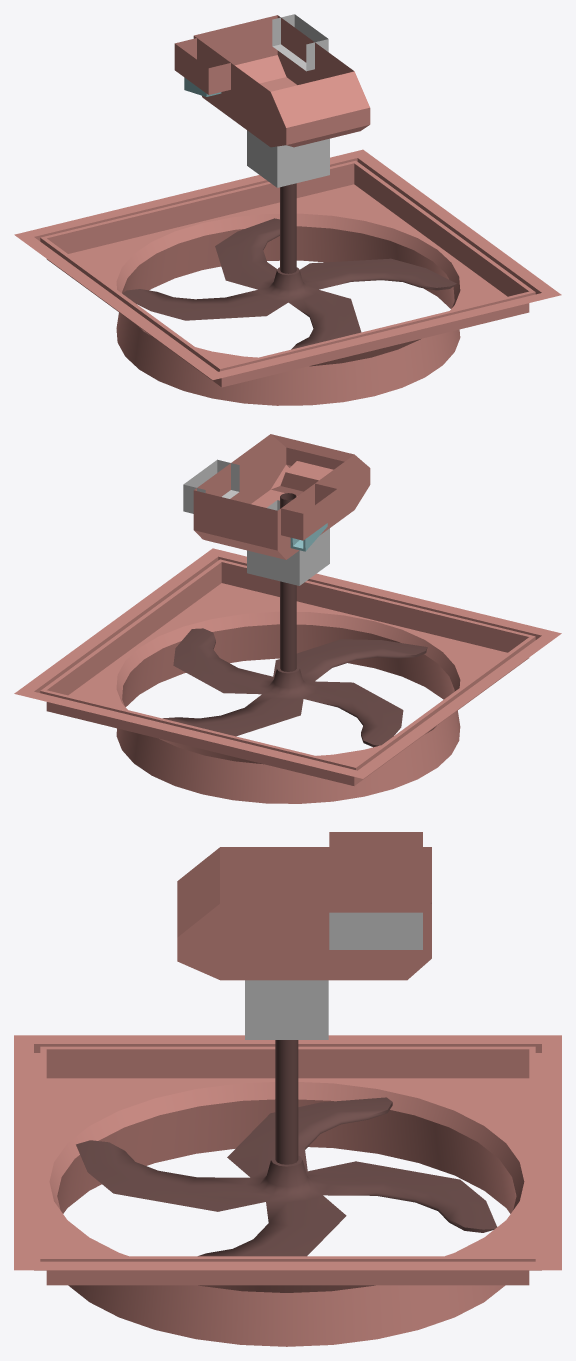
Rendered from Turbine.fbx.
3 views of the same model, one above another, from view 1: azimuth 30°, elevation 25°; view 2: azimuth 150°, elevation 25°; view 3: azimuth 270°, elevation 25° (orthographic). The views are drawn at different scales.
Parts seen in each view (by area): view 1: Turbine, Helix; view 2: Turbine, Helix; view 3: Turbine, Helix.
Part boxes in pixels (left/top/right/bottom): Turbine: left=14, top=14, right=561, bottom=405; Helix: left=122, top=183, right=456, bottom=349; Turbine: left=14, top=434, right=561, bottom=803; Helix: left=163, top=493, right=427, bottom=747; Turbine: left=14, top=832, right=561, bottom=1346; Helix: left=76, top=1040, right=496, bottom=1256.
Size of the model in its own units: 6.64 by 4.9 by 6.55.
